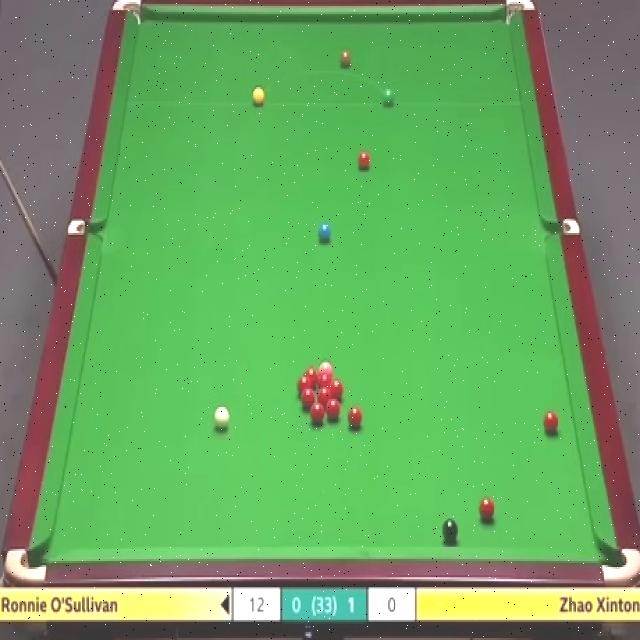black-ball: (442, 518, 458, 543)
blue-ball: (317, 222, 332, 245)
brown-ball: (340, 51, 352, 65)
green-ball: (382, 87, 396, 106)
pink-ball: (319, 362, 334, 372)
red-ball: (479, 497, 495, 520), (325, 398, 341, 420), (348, 407, 363, 428), (544, 411, 558, 432), (300, 388, 314, 409), (310, 403, 324, 423), (358, 150, 370, 171), (332, 380, 344, 400), (305, 366, 318, 384), (295, 376, 311, 389), (320, 371, 331, 386), (318, 388, 332, 399)
white-ball: (212, 405, 232, 432)
yellow-ball: (252, 88, 264, 107)
